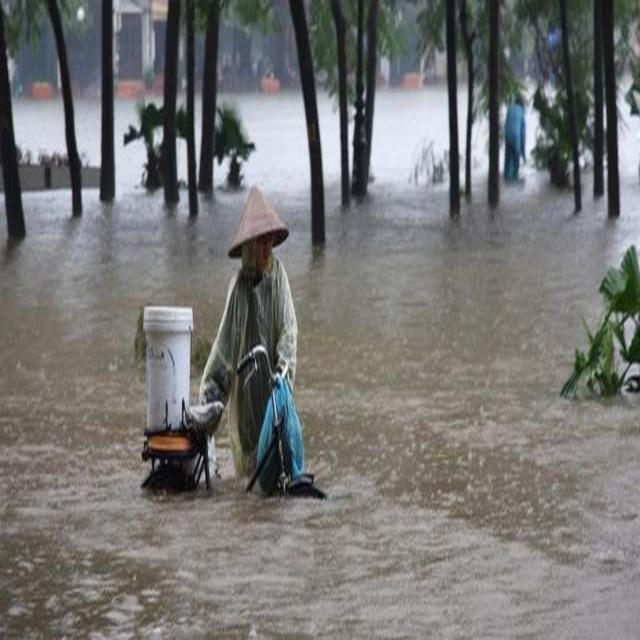Person-RiskLevel2: (204, 175, 321, 505)
